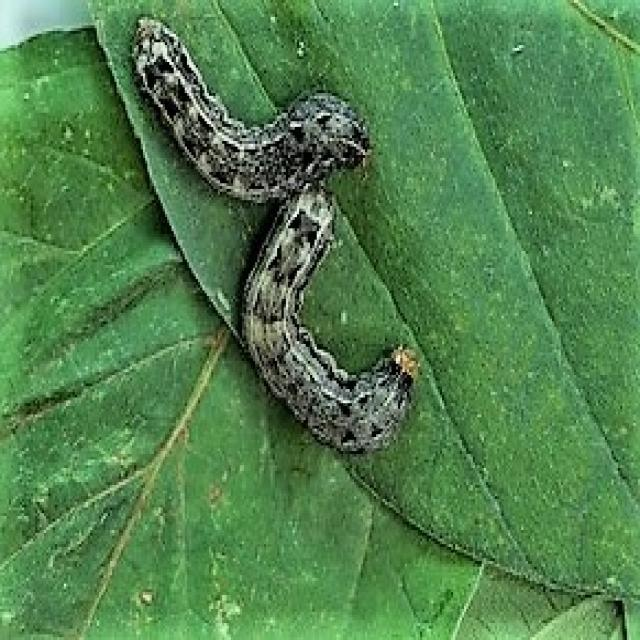armyworm: (128, 11, 420, 457)
